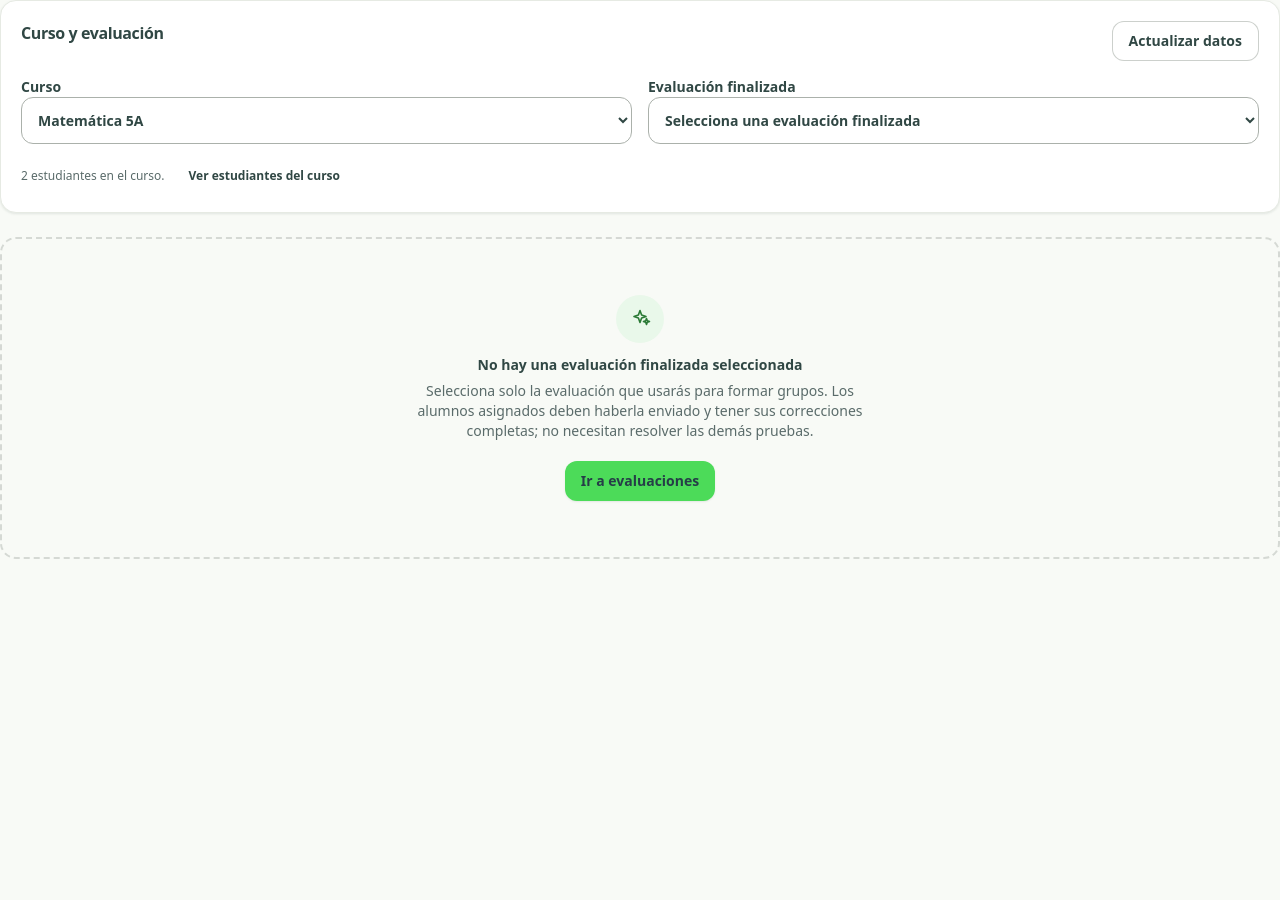
Scenario: estudiantes reales → evaluación → agrupamiento → resultados › abre /matching sin parámetros, exige elegir evaluación y espera Agrupar
Expected: the button "Agrupar" is not shown
Select "Diagnóstico final · assessment-final" in the dropdown labelled "Evaluación finalizada" at {"x": 954, "y": 120}, box [648,97,1259,144]
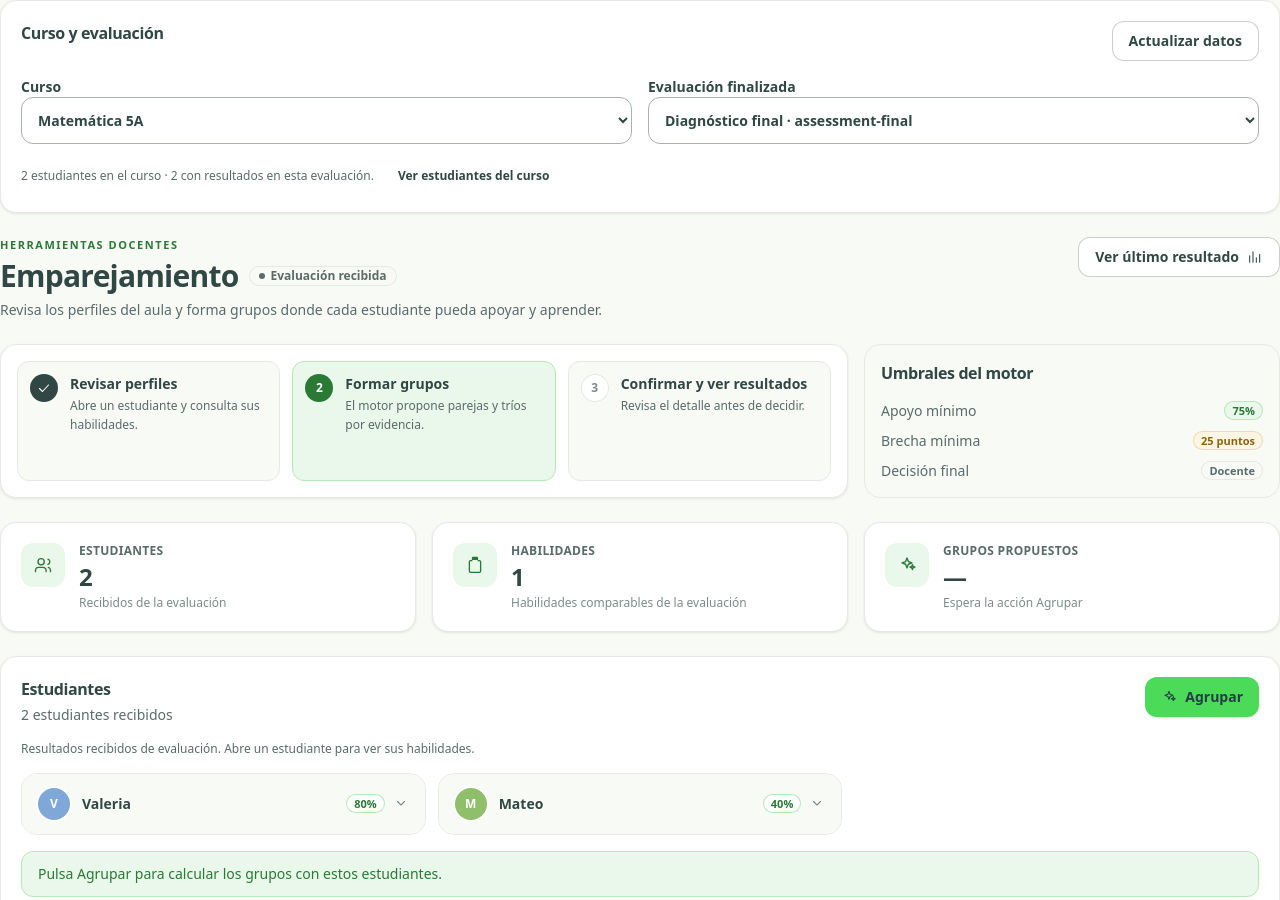
Expected: the text "2 estudiantes recibidos" is shown, [21,704,173,724]
Expected: the heading "V Valeria 80%" is shown, [22,774,425,834]
Expected: the heading "M Mateo 40%" is shown, [439,774,841,834]
Click the button "Agrupar" at {"x": 1202, "y": 696}, box [1145,676,1259,716]
(page scrolled)
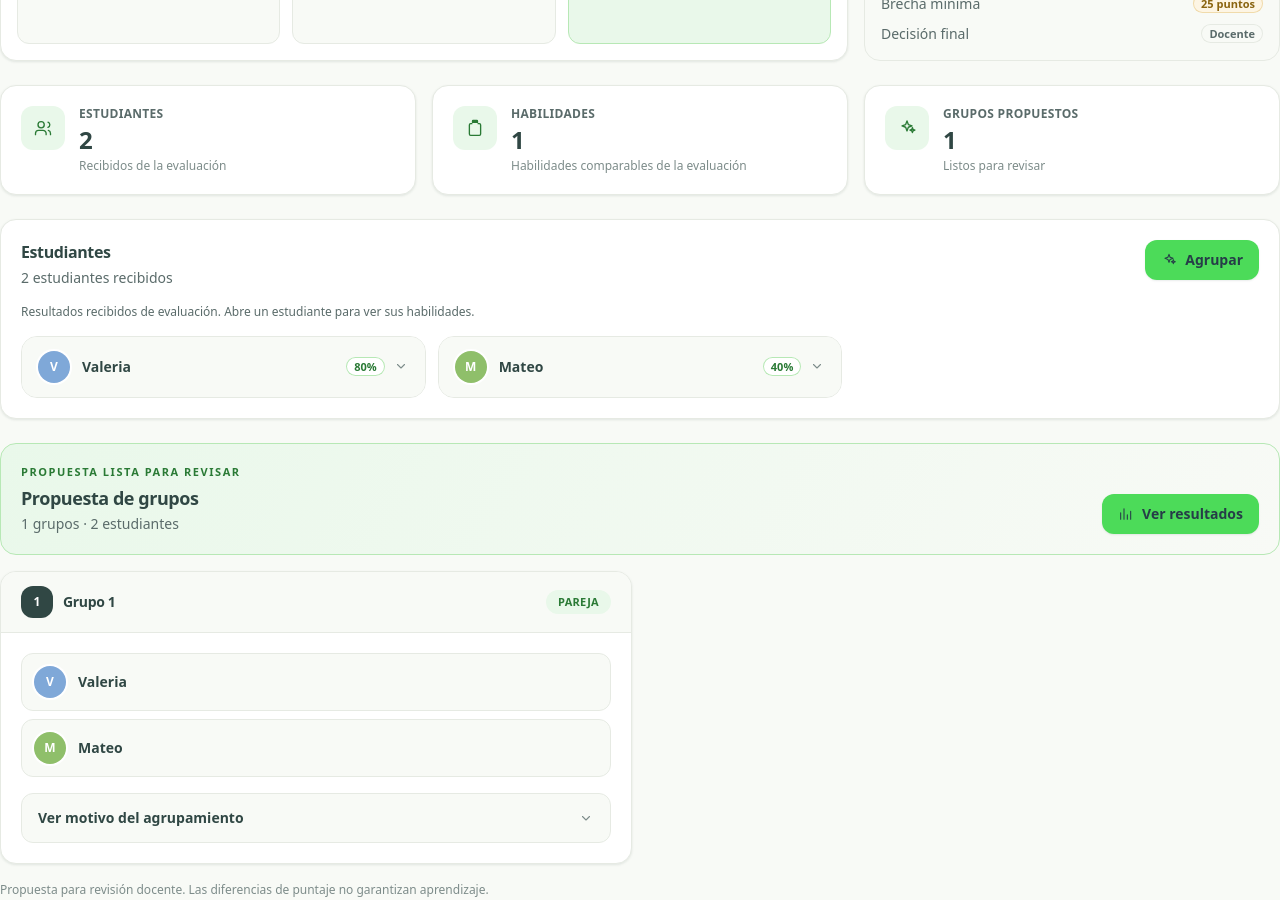
Expected: the heading "Propuesta de grupos" is shown, [21,486,198,510]
Click the link "Ver resultados" at {"x": 1181, "y": 514}, box [1102,494,1259,534]
(page scrolled)
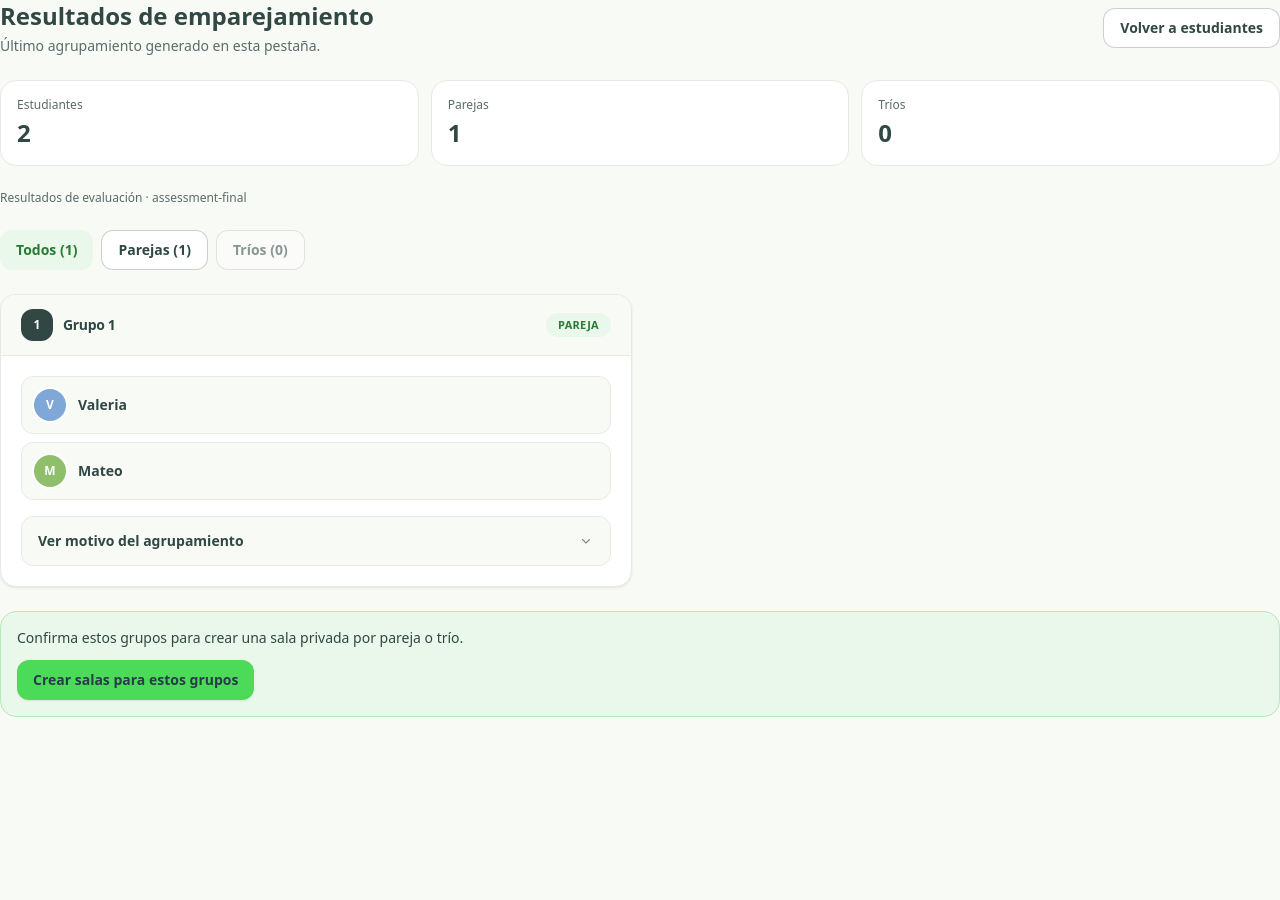
Expected: the text "Valeria" is shown, [78,395,127,415]
Expected: the heading "Resultados de emparejamiento" is shown, [0,0,374,32]
